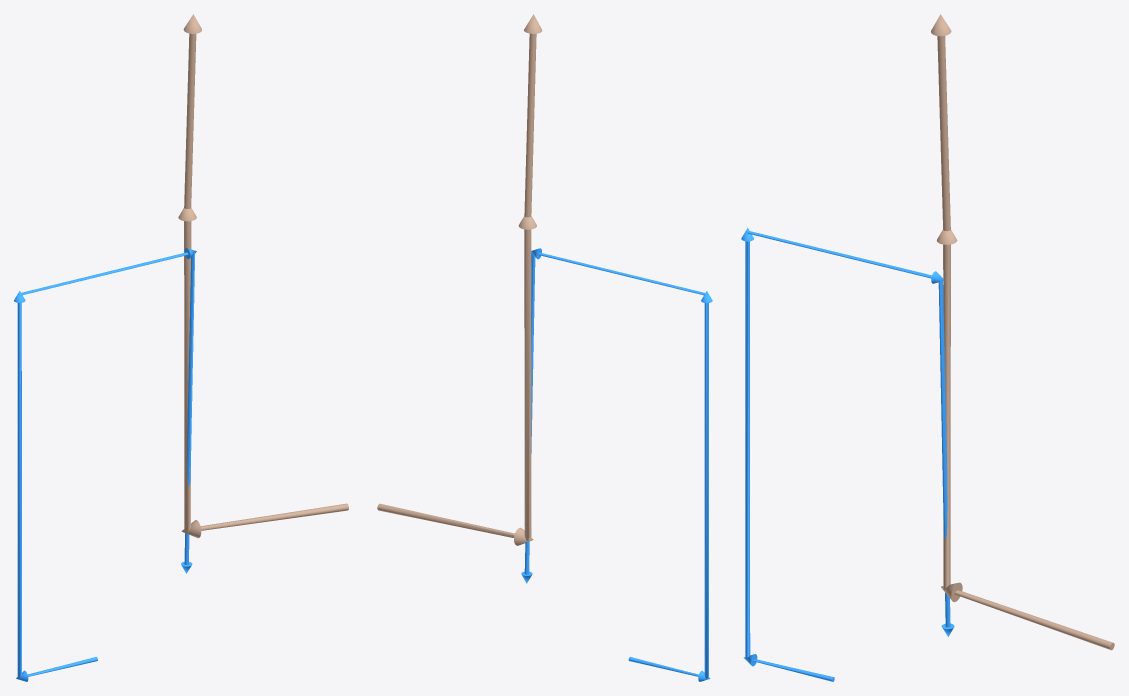
Rendered from scrubber_vessel_flow.glb.
The picture shows the model from 3 angles, left to right: view 1: azimuth 30°, elevation 25°; view 2: azimuth 150°, elevation 25°; view 3: azimuth 330°, elevation 25°; orthographic projection. The views are drawn at different scales.
Visible parts, largest first — view 1: gas, liquor.001; view 2: gas, liquor.001; view 3: gas, liquor.001.
Boxes of the visible parts, x1,y1,x2,y2 form: gas: (178,14,348,538); liquor.001: (14,248,196,681); gas: (377,14,542,545); liquor.001: (521,248,712,681); gas: (931,14,1114,650); liquor.001: (741,228,954,681).
Bounding box in the file's own units: 1.73 × 3.11 × 0.1306.
